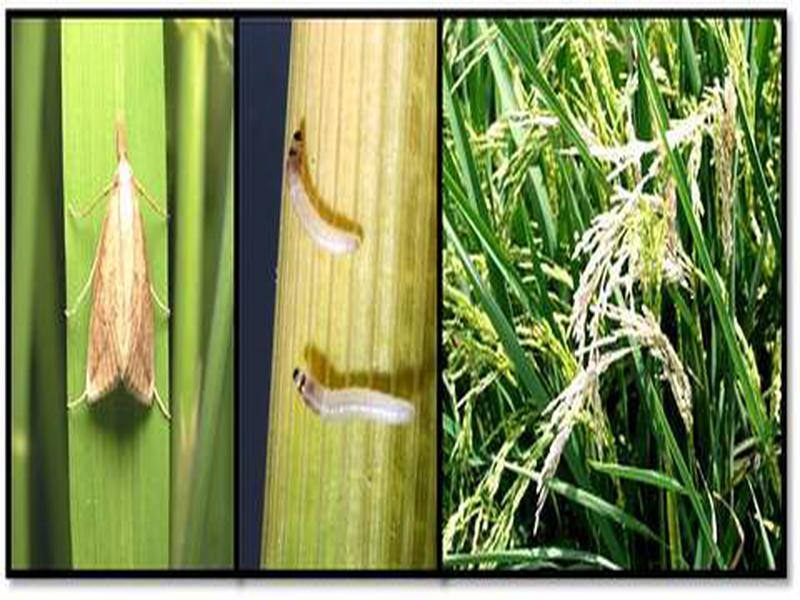Rice_skipper: (58, 130, 194, 419), (268, 350, 445, 443), (267, 123, 371, 251)
